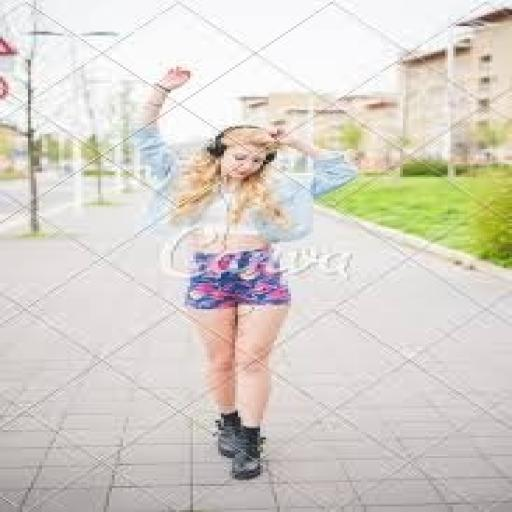listening_to_music: (128, 62, 364, 482)
